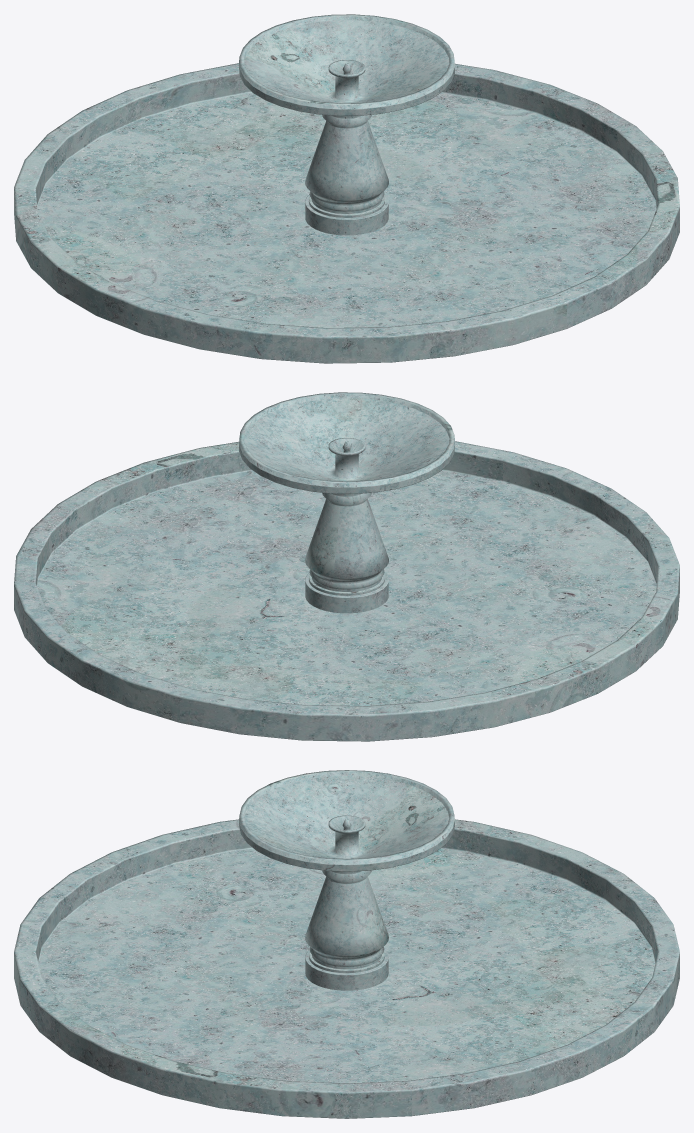
The model's file is Fountain.glb.
3 views of the same model, one above another, from view 1: azimuth 30°, elevation 25°; view 2: azimuth 150°, elevation 25°; view 3: azimuth 270°, elevation 25° (orthographic).
Parts seen in each view (by area): view 1: Circle.002, Circle.001; view 2: Circle.002, Circle.001; view 3: Circle.002, Circle.001.
Boxes of the visible parts, x1,y1,x2,y2 form: Circle.002: (14, 63, 679, 363); Circle.001: (239, 14, 454, 235); Circle.002: (14, 441, 679, 741); Circle.001: (239, 392, 454, 613); Circle.002: (14, 819, 679, 1118); Circle.001: (239, 770, 454, 990).
Size of the model in its own units: 22.14 by 5.97 by 22.14.
Materials: 1 (1 with a texture image).
